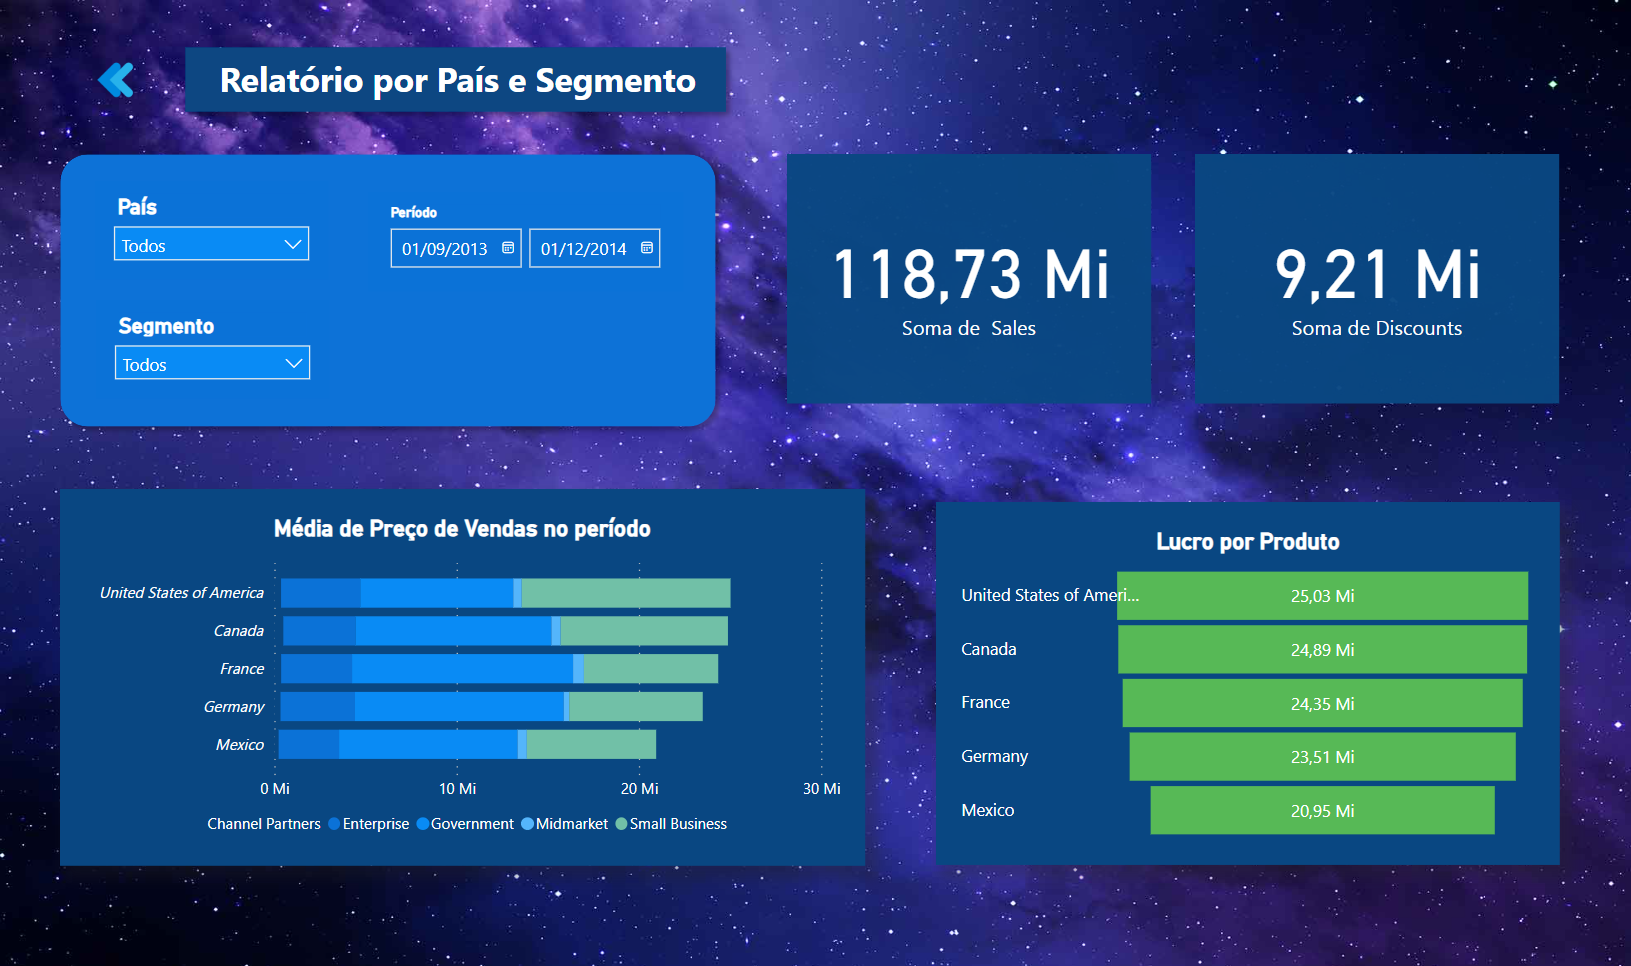

Layout of this report page (visuals, bound fields, positions):
{"tool":"powerbi","page":{"name":"Por País e Segmento","canvas":[1280,720],"ordinal":2},"visuals":[{"type":"funnel","title":"Lucro por Produto","fields":{"Category":["financials.Country"],"Y":["Sum(financials. Sales)"]},"box":[735.2,390.8,495.4,288.2],"z":0},{"type":"barChart","title":"Média de Preço de Vendas no período","fields":{"Category":["financials.Country"],"Y":["Sum(financials. Sales)"],"Series":["financials.Segment"]},"box":[40.5,380,638.5,299],"z":1000},{"type":"shape","box":[31.6,105.6,538,233.9],"z":2000},{"type":"slicer","fields":{"Values":["financials.Country"]},"box":[68.6,135.5,184.5,78],"z":3000},{"type":"slicer","fields":{"Values":["financials.Date"]},"box":[285.2,144.1,249.7,79],"z":5000},{"type":"slicer","fields":{"Values":["financials.Segment"]},"box":[69.1,229.9,184.5,78],"z":6000},{"type":"shape","box":[131.3,20.7,447.1,69.1],"z":7000},{"type":"textbox","box":[140.1,30.6,431.3,49.3],"z":8000},{"type":"card","fields":{"Values":["Sum(financials. Sales)"]},"box":[617,114,289,198],"z":10000},{"type":"card","fields":{"Values":["Sum(financials.Discounts)"]},"box":[941,114,289,198],"z":11000},{"type":"image","box":[35.6,30.6,95.6,49.4],"z":11001}]}

Visuals, with their boxes on the page's 1280x720 design canvas (x1, y1, x2, y2). These are canvas units, not pixel positions in the 1631x966 screenshot, which may show the page scaled, cropped or inside an application window:
"Lucro por Produto" funnel: l=735, t=391, r=1231, b=679
"Média de Preço de Vendas no período" barChart: l=40, t=380, r=679, b=679
shape: l=32, t=106, r=570, b=340
slicer - financials.Country: l=69, t=136, r=253, b=214
slicer - financials.Date: l=285, t=144, r=535, b=223
slicer - financials.Segment: l=69, t=230, r=254, b=308
shape: l=131, t=21, r=578, b=90
textbox: l=140, t=31, r=571, b=80
card - Sum(financials. Sales): l=617, t=114, r=906, b=312
card - Sum(financials.Discounts): l=941, t=114, r=1230, b=312
image: l=36, t=31, r=131, b=80
